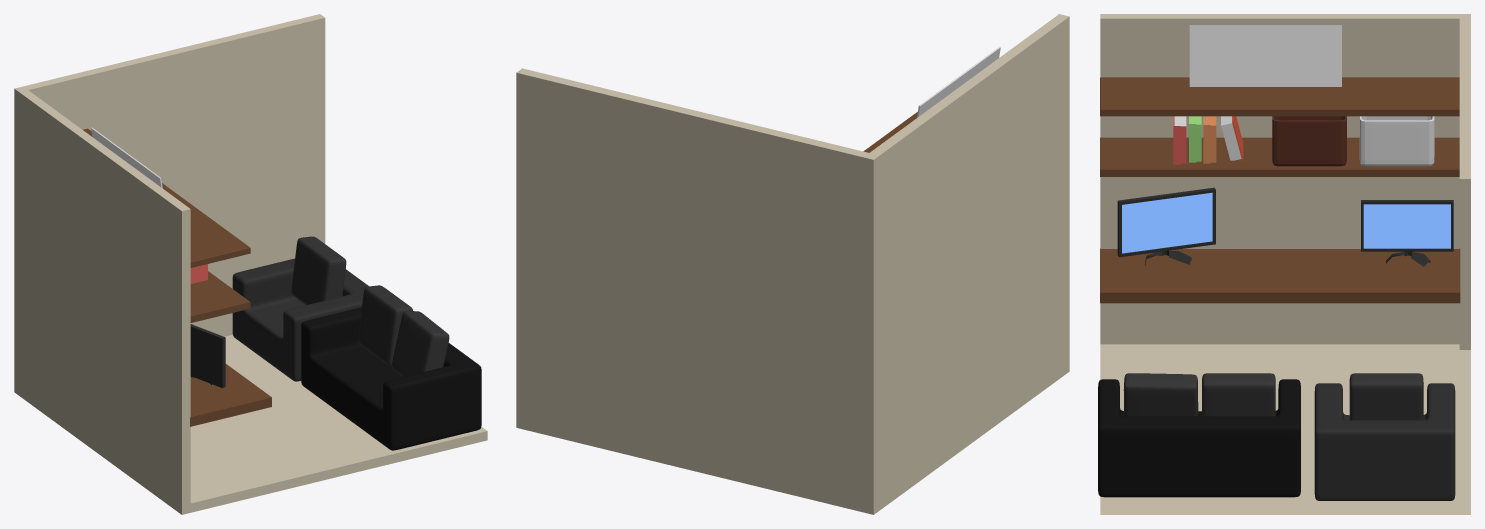
File: threejs_room_unjoined.gltf
3 views of the same model, side by side, from view 1: azimuth 30°, elevation 25°; view 2: azimuth 150°, elevation 25°; view 3: azimuth 270°, elevation 25° (orthographic). The views are drawn at different scales.
Parts seen in each view (by area): view 1: Cube.001, Cube.003, Cube.005, Plane, Cube.006, Cube.004, Cube.002, Circle.001, Plane.001; view 2: Cube.001, Plane.001; view 3: Cube.001, Plane, Cube.003, Cube.005, Plane.001, Circle.001, Circle, Cube.012, Cube.011, Cube.006, Cube.002, Cube.004 (+4 smaller).
Part boxes in pixels (x1=…): Cube.001: x1=14, y1=14, x2=487, y2=514; Cube.003: x1=301, y1=307, x2=481, y2=450; Cube.005: x1=232, y1=258, x2=368, y2=381; Plane: x1=83, y1=128, x2=271, y2=426; Cube.006: x1=291, y1=236, x2=346, y2=304; Cube.004: x1=392, y1=311, x2=449, y2=376; Cube.002: x1=358, y1=285, x2=412, y2=366; Circle.001: x1=190, y1=324, x2=225, y2=387; Plane.001: x1=91, y1=127, x2=162, y2=188; Cube.001: x1=516, y1=14, x2=1069, y2=514; Plane.001: x1=917, y1=46, x2=1000, y2=117; Cube.001: x1=1100, y1=14, x2=1470, y2=514; Plane: x1=1100, y1=77, x2=1460, y2=303; Cube.003: x1=1098, y1=379, x2=1300, y2=497; Cube.005: x1=1314, y1=383, x2=1455, y2=500; Plane.001: x1=1189, y1=25, x2=1341, y2=86; Circle.001: x1=1117, y1=187, x2=1215, y2=265; Circle: x1=1361, y1=200, x2=1453, y2=266; Cube.012: x1=1359, y1=116, x2=1434, y2=166; Cube.011: x1=1272, y1=116, x2=1346, y2=166; Cube.006: x1=1349, y1=373, x2=1423, y2=420; Cube.002: x1=1202, y1=373, x2=1275, y2=416; Cube.004: x1=1123, y1=373, x2=1198, y2=416.
Size of the model in its own units: 5.27 by 5 by 5.03.
